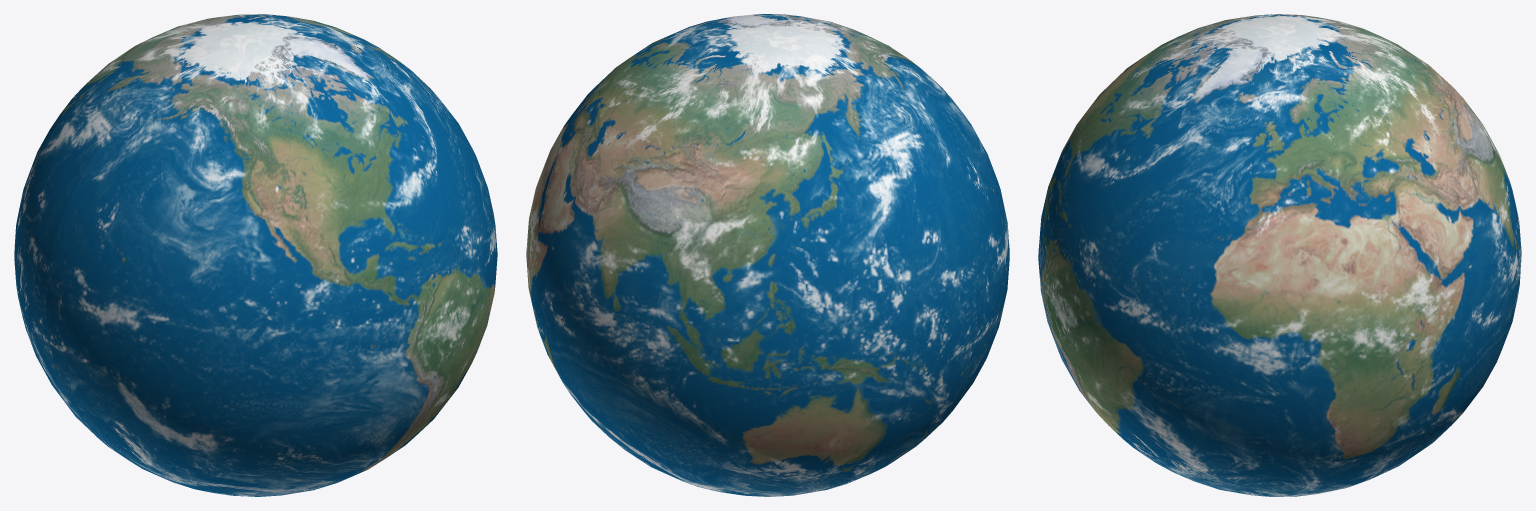
The model's file is earth.glb.
3 renders of one model, left to right at view 1: azimuth 30°, elevation 25°; view 2: azimuth 150°, elevation 25°; view 3: azimuth 270°, elevation 25°, orthographic.
Visible parts, largest first — view 1: Sphere_Material.002_0.001; view 2: Sphere_Material.002_0.001; view 3: Sphere_Material.002_0.001.
Boxes of the visible parts, x1=… form: Sphere_Material.002_0.001: x1=14, y1=14, x2=497, y2=496; Sphere_Material.002_0.001: x1=526, y1=14, x2=1009, y2=496; Sphere_Material.002_0.001: x1=1038, y1=14, x2=1521, y2=496.
Size of the model in its own units: 4.54 by 4.54 by 4.54.
Materials: 1 (1 with a texture image).
